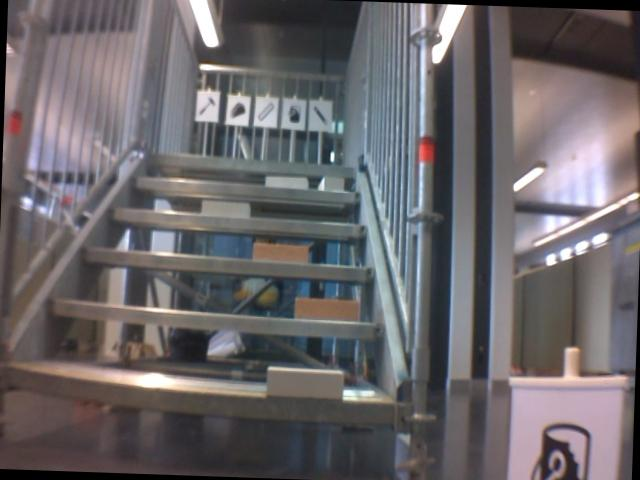brick: (266, 366, 342, 397), (296, 298, 358, 322), (252, 242, 307, 262), (200, 200, 249, 217), (265, 175, 307, 188), (319, 176, 342, 190)
bucket: (284, 100, 301, 125)
edge: (6, 365, 397, 423), (47, 300, 386, 339), (81, 248, 374, 281), (108, 208, 367, 236), (130, 177, 360, 202), (149, 153, 356, 178)
hammer: (196, 94, 215, 119)
pencil: (309, 103, 328, 125)
ruler: (255, 98, 274, 122)
steps: (2, 143, 407, 431)
taco: (228, 99, 246, 121)
